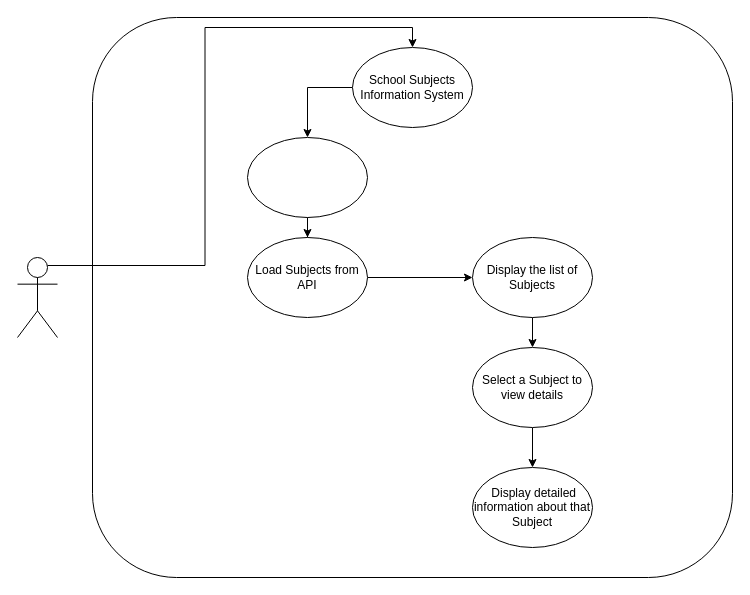
Some shapes in this 750 by 595 pixel diagram are drawn without their labels. Each missing label, with the centre of its shape:
Load Subjects from file: pixel 307 177
User: pixel 37 297
